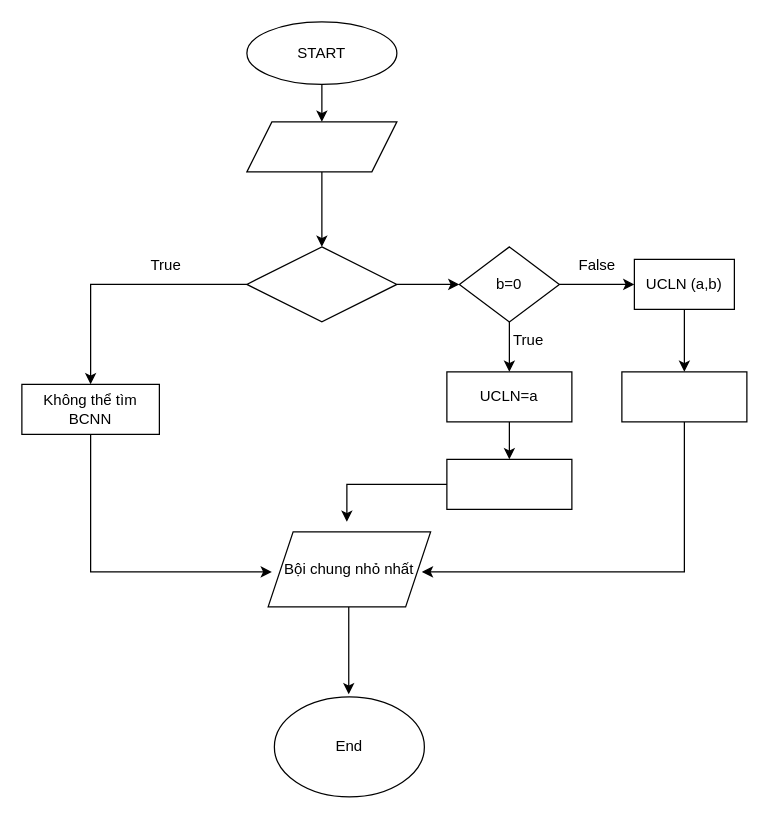
This 769x819 diagram has some shape labels left out. The shapes that lost their labels are listed below. From the top down, each one's centre as x and y in pixels, then its label:
At [321,146]: "a,b".
At [321,284]: "a=0 or b=0".
At [684,396]: "BCNN= (a*b) / UCLN".
At [509,483]: "BCNN=a".
